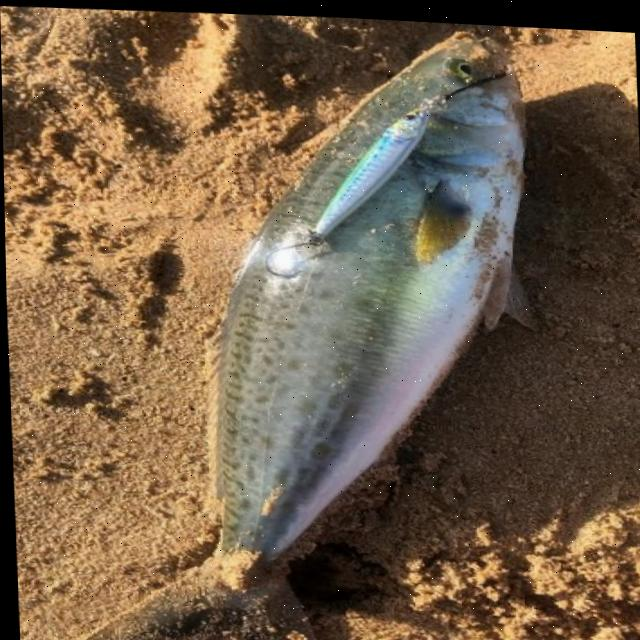Australian Salmon: (43, 3, 574, 640)
